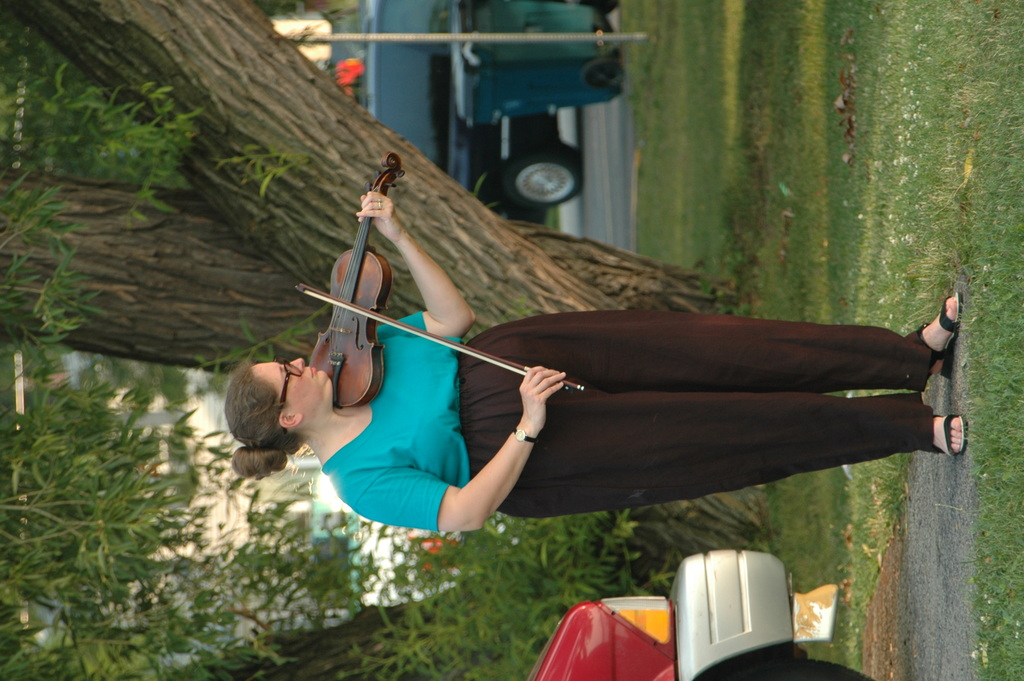Tree: (0, 0, 764, 681)
